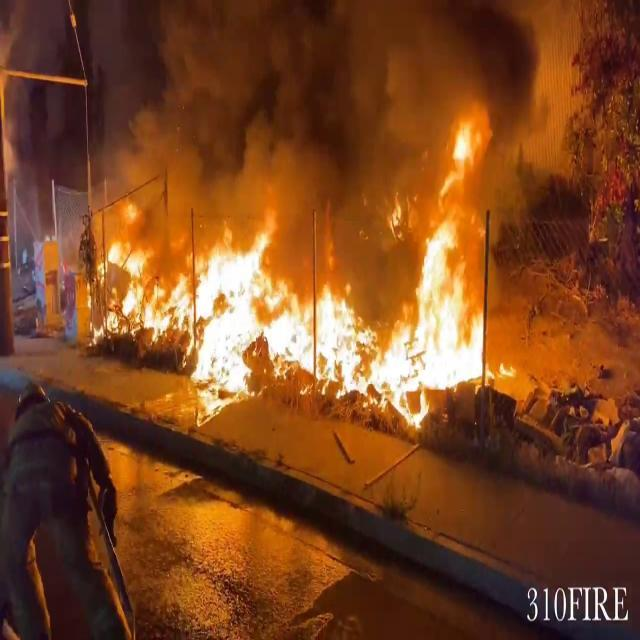Fire: (96, 198, 514, 415), (97, 200, 339, 407)
Smoke: (100, 0, 562, 211)
